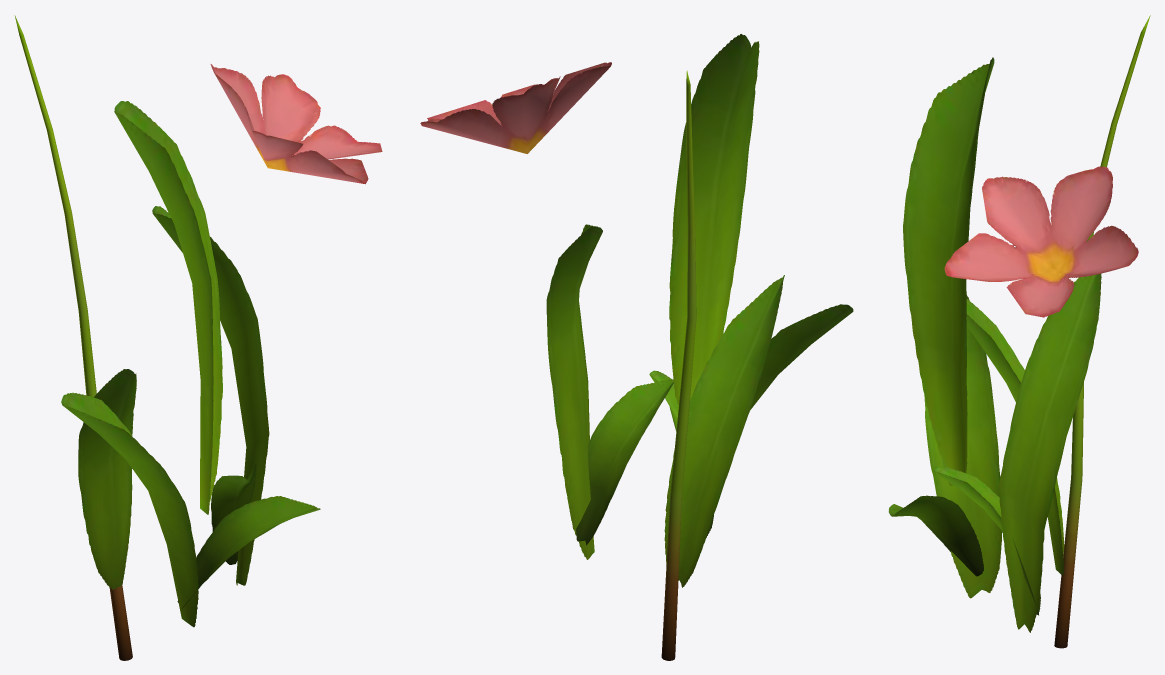
The model's file is flower-3-group-lo.glb.
3 renders of one model, left to right at view 1: azimuth 30°, elevation 25°; view 2: azimuth 150°, elevation 25°; view 3: azimuth 270°, elevation 25°, orthographic. The views are drawn at different scales.
Visible parts, largest first — view 1: Flower_3_Group; view 2: Flower_3_Group; view 3: Flower_3_Group.
Boxes of the visible parts, bbox=[...] form: Flower_3_Group: bbox=[14, 15, 382, 660]; Flower_3_Group: bbox=[420, 34, 853, 660]; Flower_3_Group: bbox=[888, 15, 1150, 648].
Bounding box in the file's own units: 1.56 × 2.48 × 0.9863.
2 materials, 2 textured.
